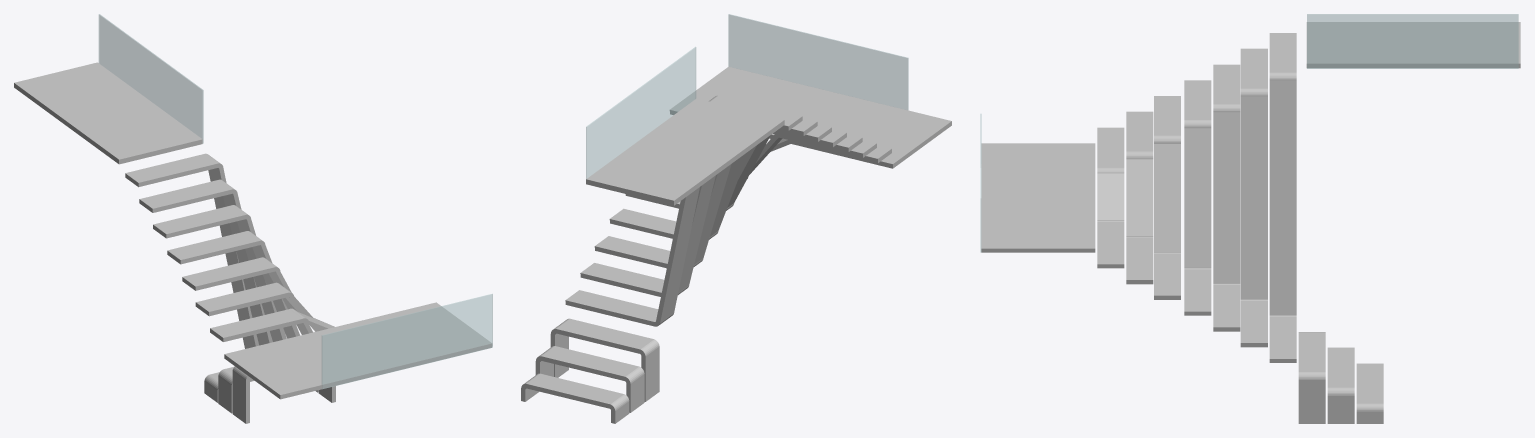
File: stairs.gltf
The picture shows the model from 3 angles, left to right: view 1: azimuth 30°, elevation 25°; view 2: azimuth 150°, elevation 25°; view 3: azimuth 270°, elevation 25°; orthographic projection. The views are drawn at different scales.
Parts seen in each view (by area): view 1: Modern Staircase, Plane.001, home_rail_front.001, home_rail_front.002; view 2: Modern Staircase, Plane.001, home_rail_front.001, home_rail_front.002; view 3: Modern Staircase, home_rail_front.002, Plane.001.
Boxes of the visible parts, x1=… form: Modern Staircase: x1=125, y1=153, x2=492, y2=423; Plane.001: x1=14, y1=62, x2=202, y2=164; home_rail_front.001: x1=321, y1=294, x2=492, y2=389; home_rail_front.002: x1=98, y1=14, x2=203, y2=143; Modern Staircase: x1=521, y1=66, x2=951, y2=423; Plane.001: x1=586, y1=98, x2=784, y2=205; home_rail_front.001: x1=728, y1=14, x2=908, y2=109; home_rail_front.002: x1=586, y1=47, x2=696, y2=178; Modern Staircase: x1=981, y1=33, x2=1383, y2=423; home_rail_front.002: x1=1307, y1=14, x2=1518, y2=68; Plane.001: x1=1306, y1=22, x2=1520, y2=68.
Size of the model in its own units: 2.34 by 3.57 by 5.05.
